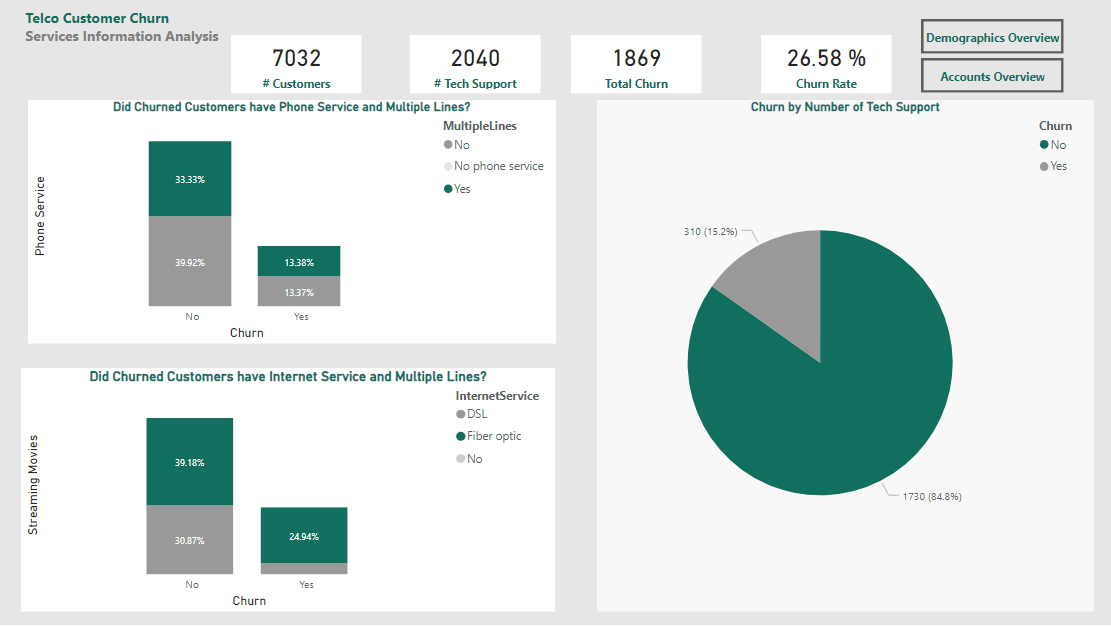

The page's visual inventory and layout, read from the dashboard file:
{"tool":"powerbi","page":{"name":"Services Overview","canvas":[1280,720],"ordinal":2},"visuals":[{"type":"textbox","box":[25.6,5.6,241.1,75.6],"z":0},{"type":"columnChart","title":"Did Churned Customers have Phone Service and Multiple Lines?","fields":{"Category":["FactCustomerChurn.Churn"],"Y":["Dax Measuers.# Phone Service"],"Series":["FactCustomerChurn.MultipleLines"]},"box":[33.3,116.7,606.7,280],"z":1000},{"type":"pieChart","title":"Churn by Number of Tech Support","fields":{"Category":["FactCustomerChurn.Churn"],"Y":["Dax Measuers.# Tech Support"]},"box":[687.8,116.7,571.1,587.8],"z":2000},{"type":"columnChart","title":"Did Churned Customers have Internet Service and Multiple Lines?","fields":{"Category":["FactCustomerChurn.Churn"],"Y":["Dax Measuers.# Streaming Movies"],"Series":["DimInternetService.InternetService"]},"box":[25.6,424.4,614.4,280],"z":3000},{"type":"actionButton","box":[1060,23.3,164.4,40],"z":4000},{"type":"card","fields":{"Values":["Dax Measuers.# Customers"]},"box":[266.7,41.1,150,66.7],"z":5000},{"type":"card","fields":{"Values":["Dax Measuers.# Tech Support"]},"box":[472.2,41.1,150,66.7],"z":6000},{"type":"card","fields":{"Values":["Dax Measuers.Total Churn"]},"box":[657.8,41.1,150,66.7],"z":7000},{"type":"card","fields":{"Values":["Dax Measuers.Churn Rate"]},"box":[875.6,41.1,150,66.7],"z":8000},{"type":"actionButton","box":[1060,67.8,164.4,40],"z":9000}]}

Visuals, with their boxes in screenshot pixels (x1, y1, x2, y2), scaled from the page's 1280x720 canvas onto the 1111x626 screenshot:
textbox: (22, 5, 231, 71)
"Did Churned Customers have Phone Service and Multiple Lines?" columnChart: (29, 101, 556, 345)
"Churn by Number of Tech Support" pieChart: (597, 101, 1093, 613)
"Did Churned Customers have Internet Service and Multiple Lines?" columnChart: (22, 369, 556, 612)
actionButton: (920, 20, 1063, 55)
card - Dax Measuers.# Customers: (231, 36, 362, 94)
card - Dax Measuers.# Tech Support: (410, 36, 540, 94)
card - Dax Measuers.Total Churn: (571, 36, 701, 94)
card - Dax Measuers.Churn Rate: (760, 36, 890, 94)
actionButton: (920, 59, 1063, 94)
